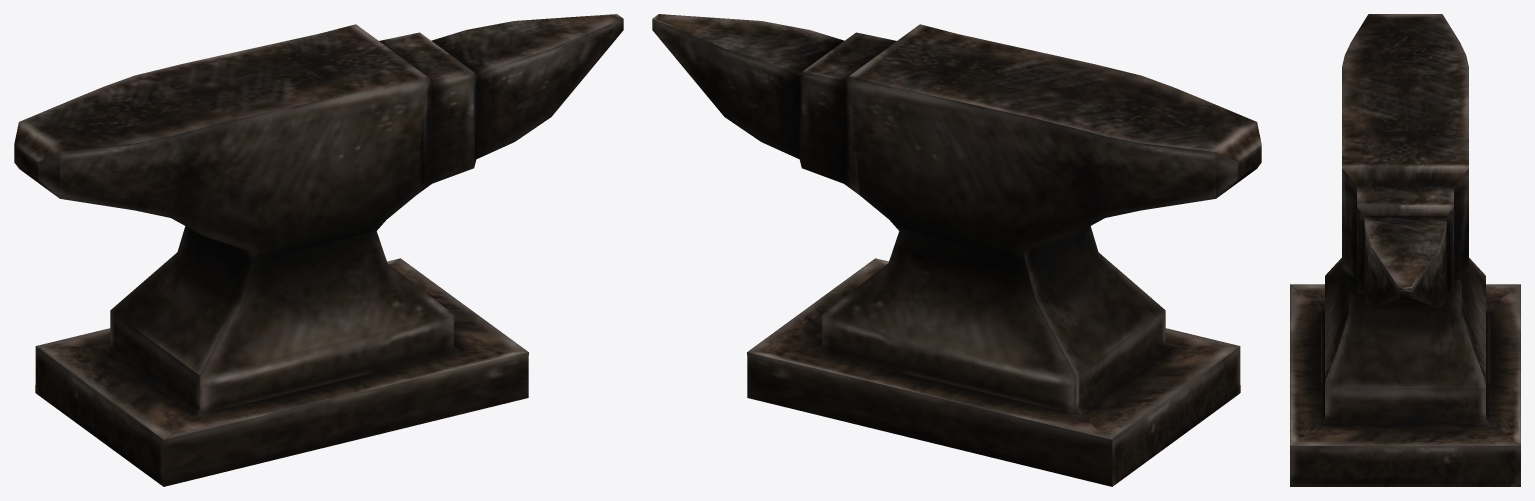
The model's file is shop_bsmith_anvilA.fbx.
3 views of the same model, side by side, from view 1: azimuth 30°, elevation 25°; view 2: azimuth 150°, elevation 25°; view 3: azimuth 270°, elevation 25° (orthographic). The views are drawn at different scales.
Visible parts, largest first — view 1: lod_high; view 2: lod_high; view 3: lod_high.
Part boxes in pixels (<box>): lod_high: <box>14,14,623,486</box>; lod_high: <box>652,14,1261,486</box>; lod_high: <box>1290,14,1520,486</box>.
Size of the model in its own units: 192 by 99.43 by 71.88.
Materials: 1 (1 with a texture image).
